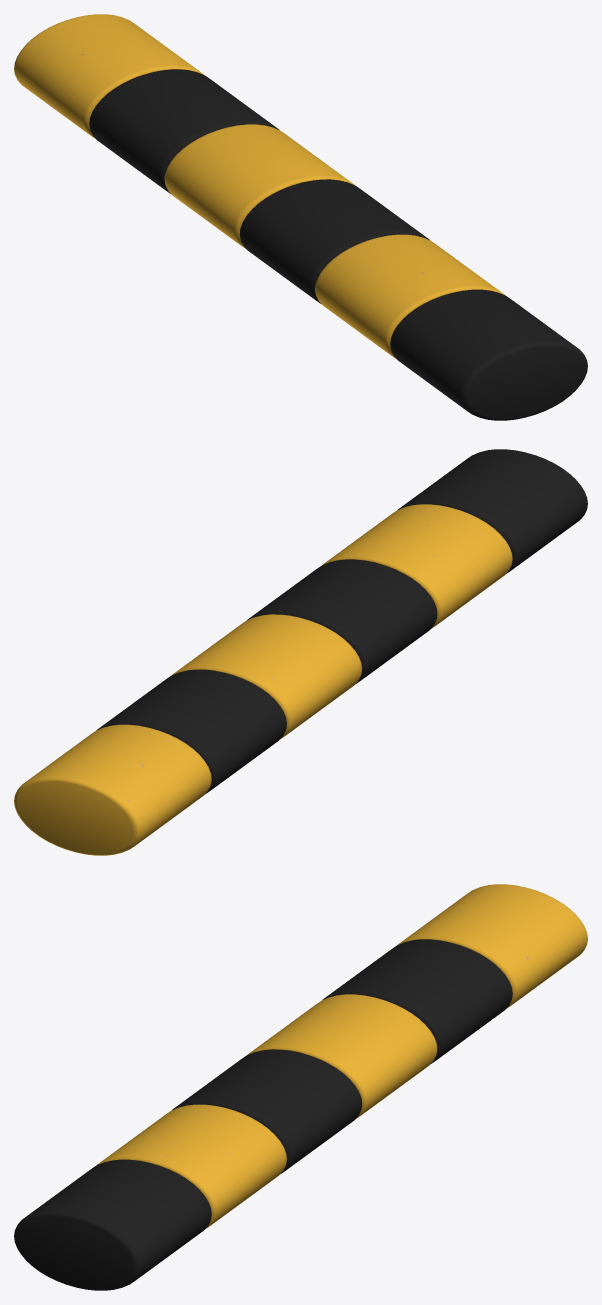
Rendered from prop_speedbump.fbx.
3 renders of one model, top to bottom at view 1: azimuth 30°, elevation 25°; view 2: azimuth 150°, elevation 25°; view 3: azimuth 330°, elevation 25°, orthographic.
Parts seen in each view (by area): view 1: prop_speedbump; view 2: prop_speedbump; view 3: prop_speedbump.
Part boxes in pixels (left/top/right/bottom): prop_speedbump: left=14, top=14, right=587, bottom=420; prop_speedbump: left=14, top=449, right=587, bottom=855; prop_speedbump: left=14, top=884, right=587, bottom=1290.
Size of the model in its own units: 0.44 by 0.242 by 2.7.
